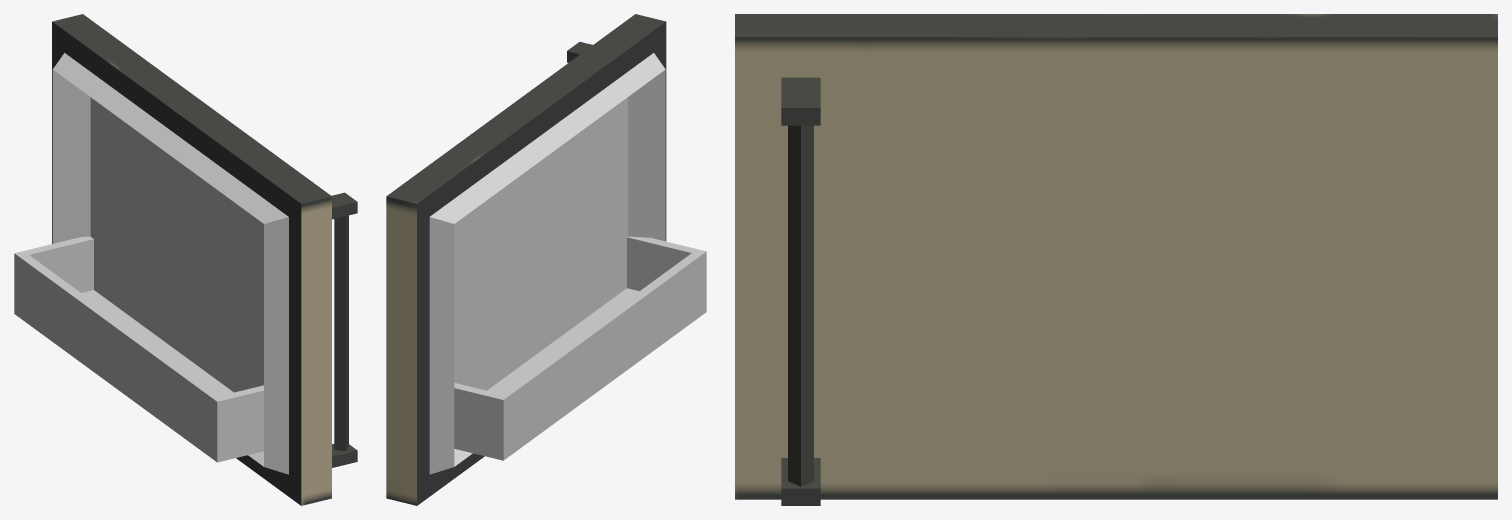
File: House_Demo-col.glb
3 views of the same model, side by side, from view 1: azimuth 30°, elevation 25°; view 2: azimuth 150°, elevation 25°; view 3: azimuth 270°, elevation 25° (orthographic). The views are drawn at different scales.
Parts seen in each view (by area): view 1: House_Demo-col; view 2: House_Demo-col; view 3: House_Demo-col.
Boxes of the visible parts, box(x1,y1,x2,y2) form: House_Demo-col: box(14, 14, 357, 505); House_Demo-col: box(386, 14, 706, 505); House_Demo-col: box(735, 14, 1497, 505).
Bounding box in the file's own units: 0.2853 × 0.6166 × 0.9216.
Materials: 1 (1 with a texture image).
